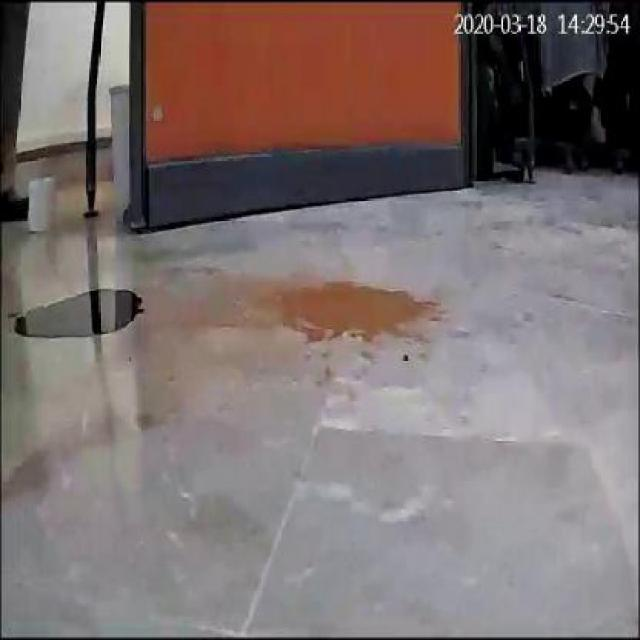spill: (269, 280, 446, 338), (10, 285, 141, 341)
